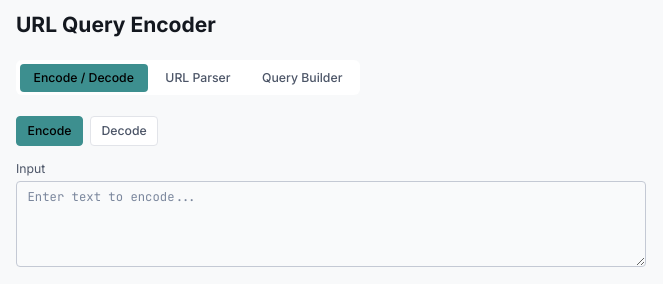
Test: UrlQueryEncoder › URL Parser tab shows URL input when clicked
Click the button "URL Parser": [198, 78] box x1=151 y1=64 x2=244 y2=92
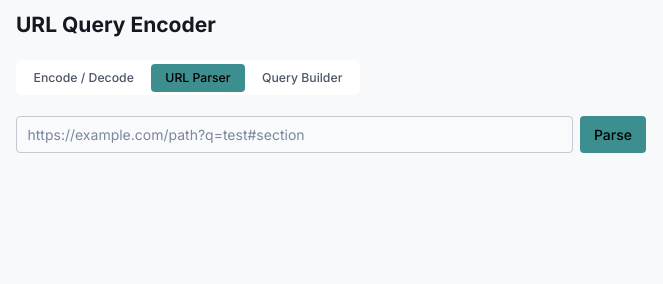
Expected: the field with placeholder "https://example.com/path?q=test#section" is shown, x1=16 y1=116 x2=573 y2=153
